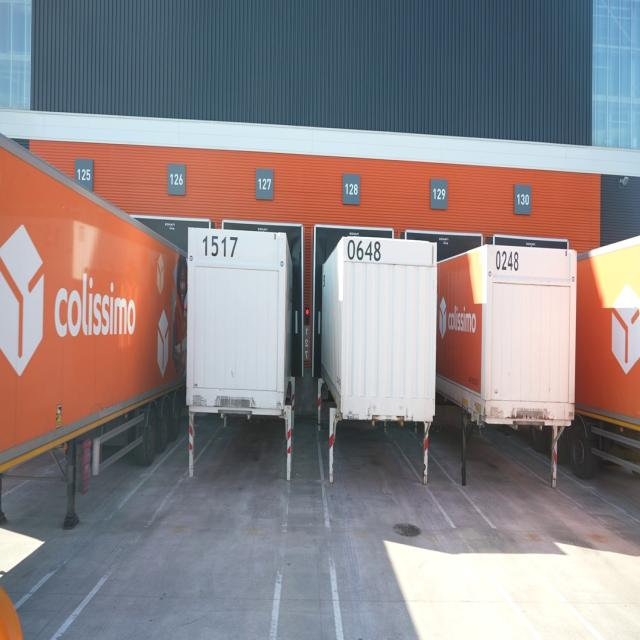Code: (198, 229, 240, 265), (347, 235, 386, 269), (490, 242, 524, 274)
